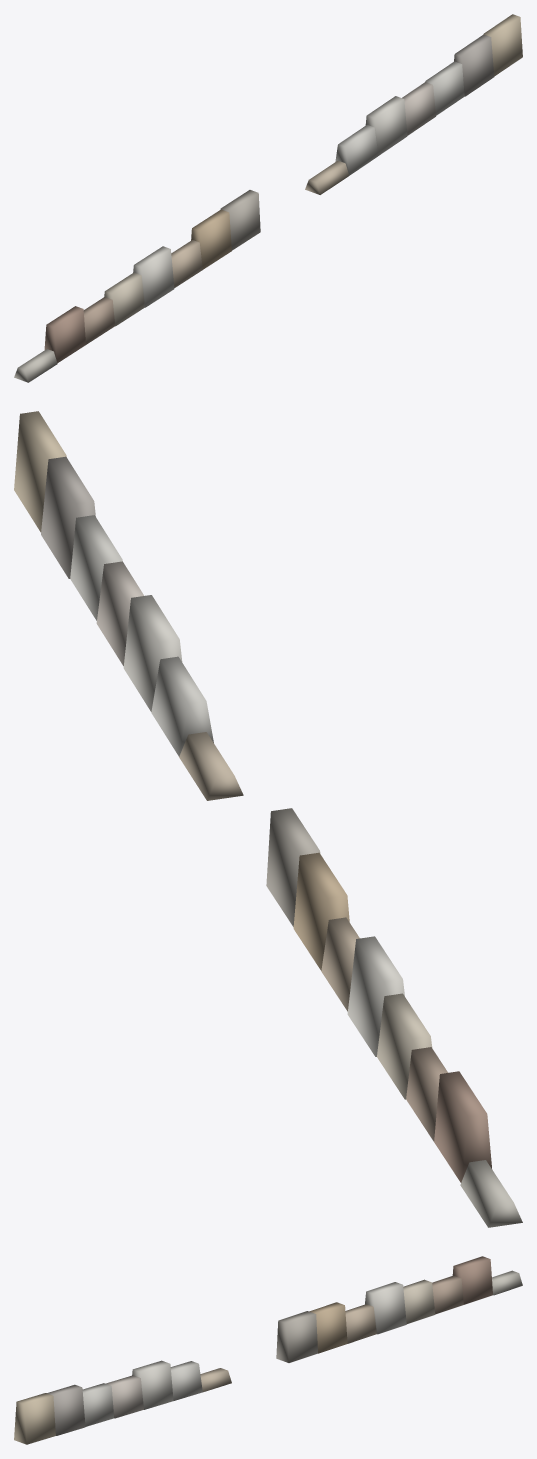
The model's file is farm_-33_-28_collision.glb.
3 views of the same model, one above another, from view 1: azimuth 90°, elevation 25°; view 2: azimuth 150°, elevation 25°; view 3: azimuth 270°, elevation 25° (orthographic). The views are drawn at different scales.
Parts seen in each view (by area): view 1: geometry_0; view 2: geometry_0; view 3: geometry_0.
Part boxes in pixels (x1=…): geometry_0: x1=14, y1=14, x2=522, y2=382; geometry_0: x1=14, y1=411, x2=522, y2=1227; geometry_0: x1=14, y1=1256, x2=522, y2=1444.
Bounding box in the file's own units: 20.84 × 4.81 × 18.13.
